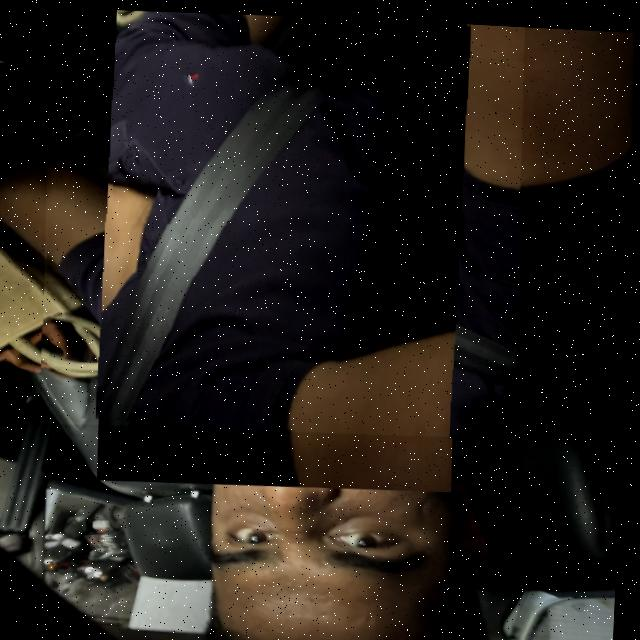seatbelt: (36, 2, 531, 441)
